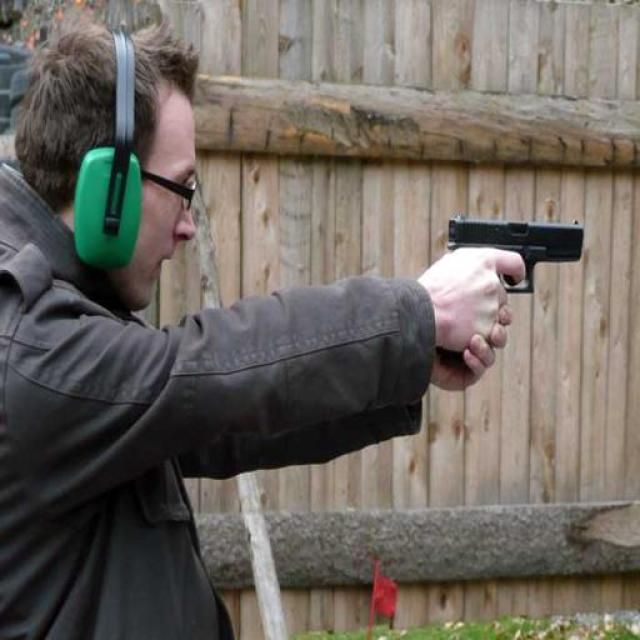pistol: (425, 214, 584, 384)
